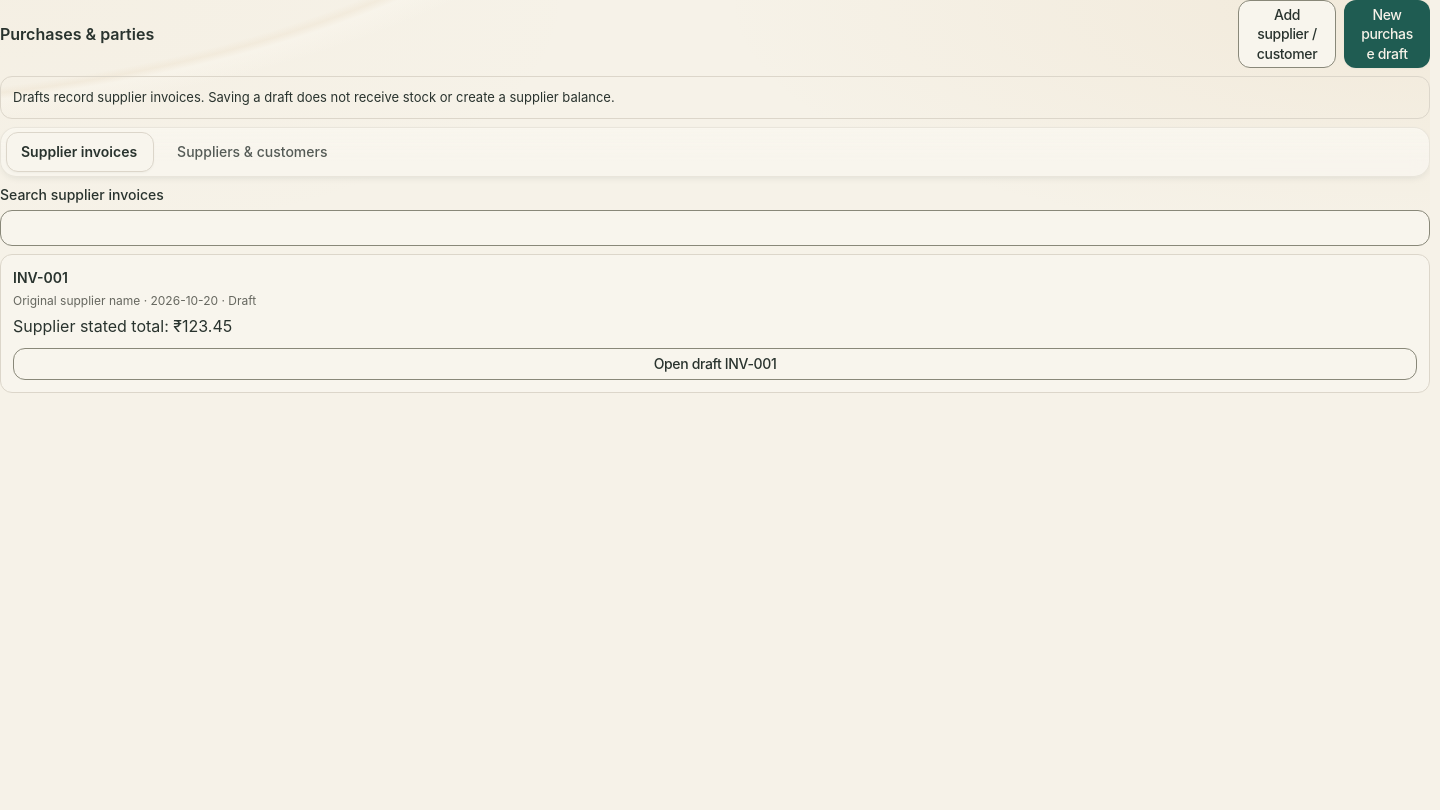
Test: keeps old drafts readable and rejects malformed saved calculation totals
Click the button "Open draft INV-001": point(715, 364) [13,348,1417,380]
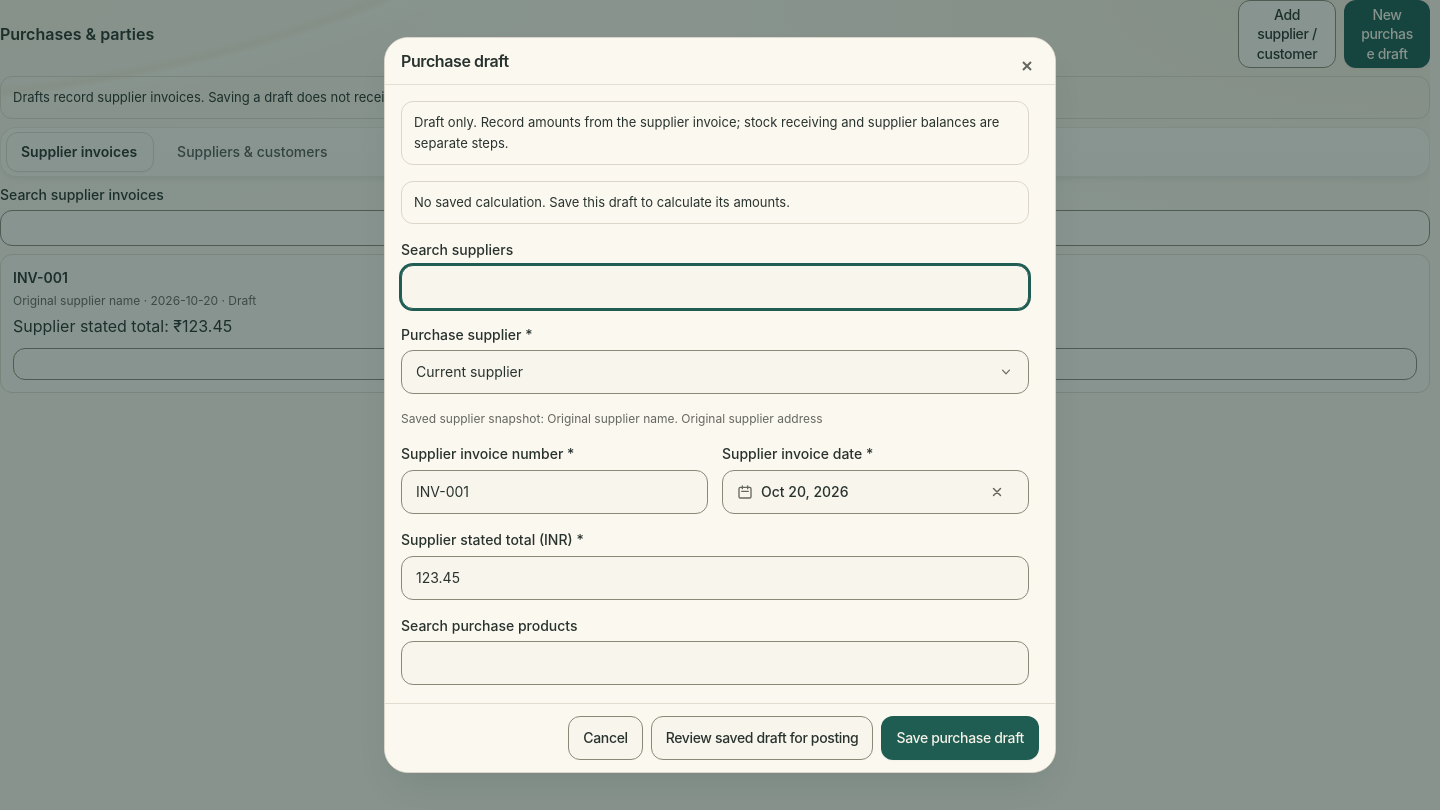
Expected: the text "No saved calculation" is shown, [414,194,790,210]
Click the button "Cancel": point(606, 738) [568,716,643,760]
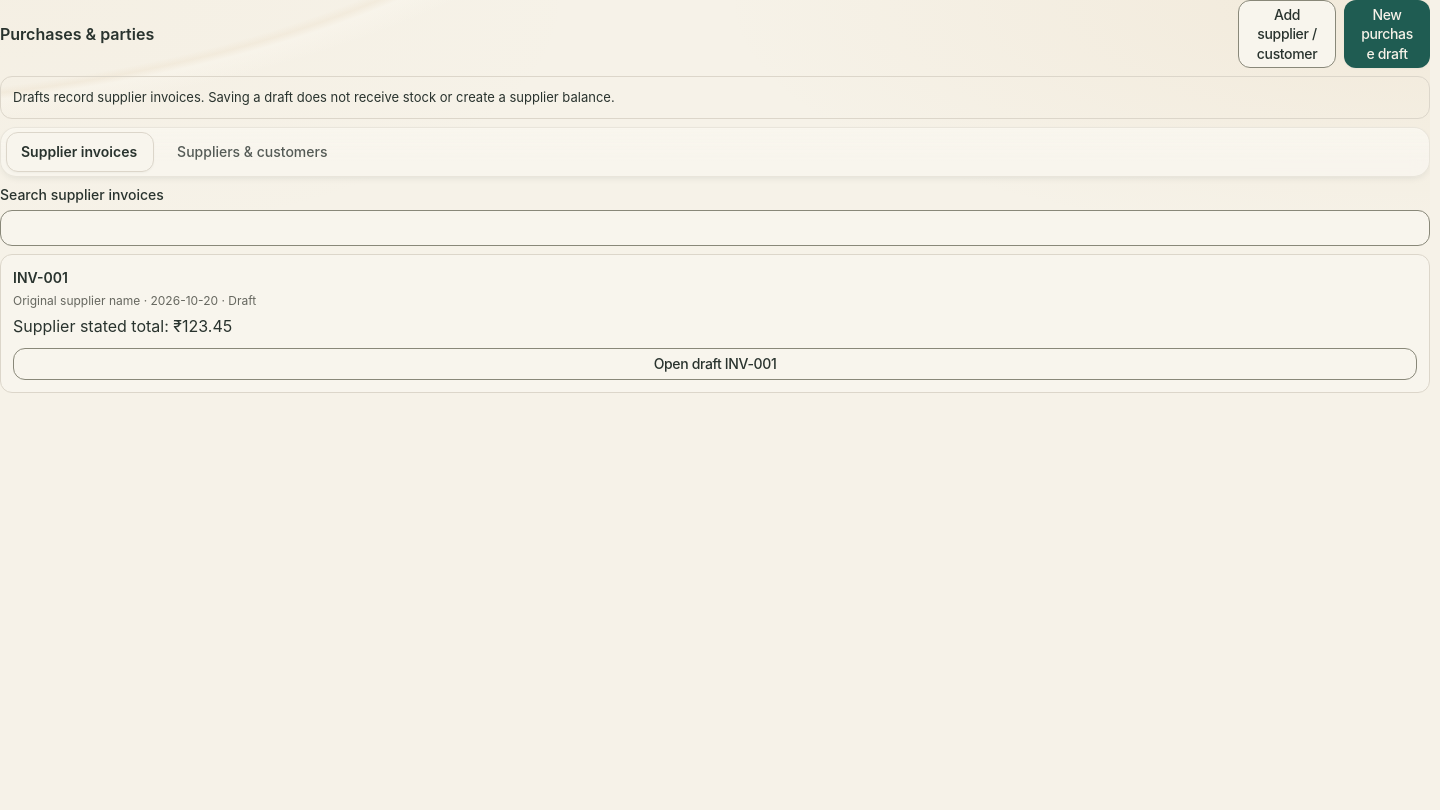
Click the button "Open draft INV-001": point(715, 364) [13,348,1417,380]
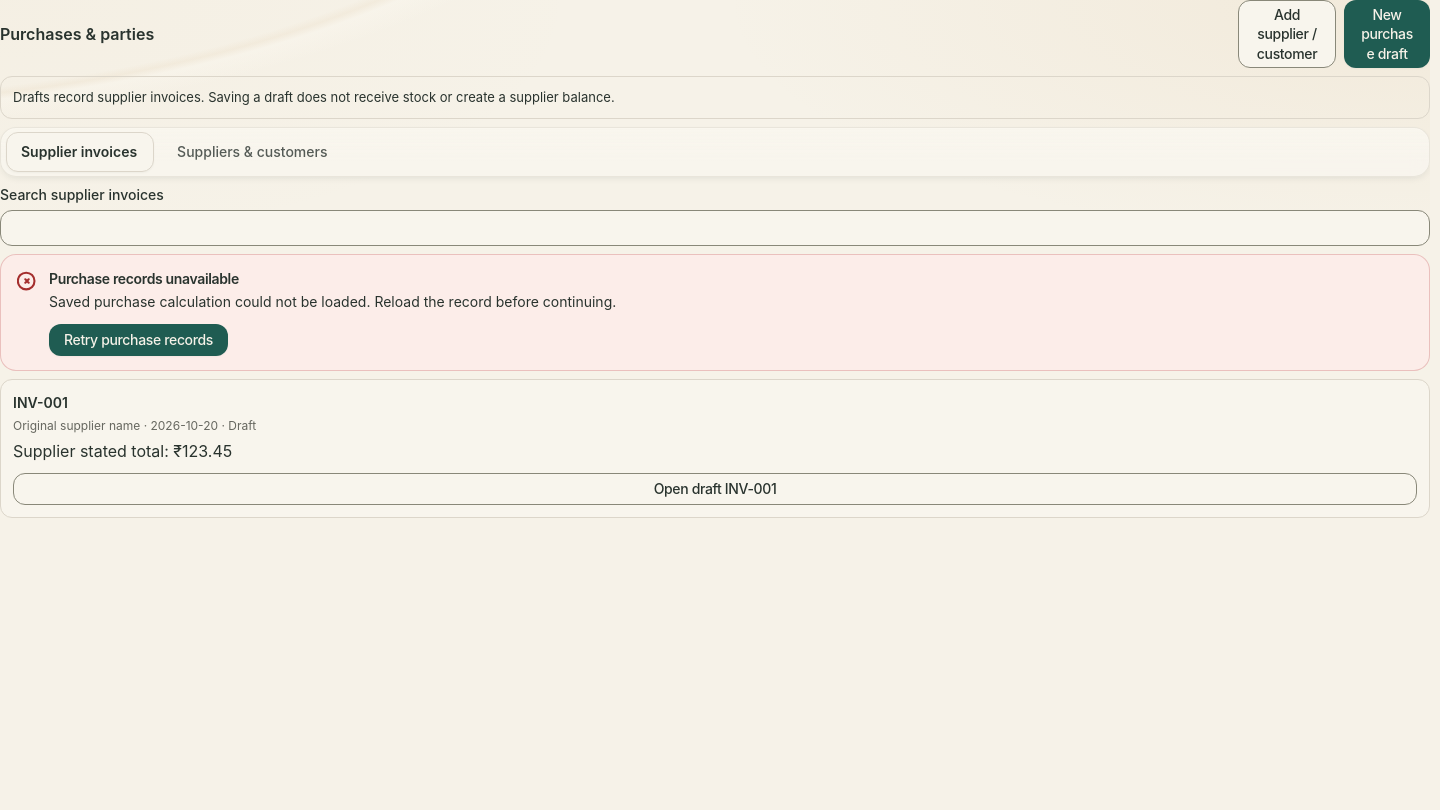
Expected: the text "Saved purchase calculation could not be loaded" is shown, [49,293,616,310]
